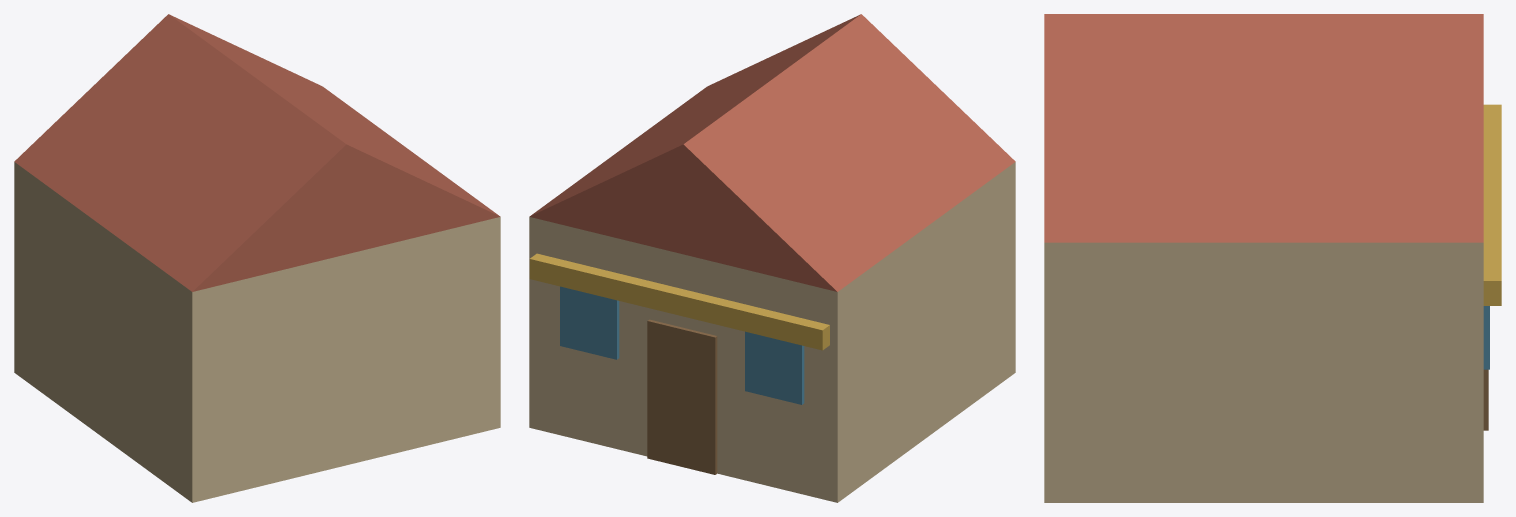
File: shop_cafe.glb
3 renders of one model, left to right at view 1: azimuth 30°, elevation 25°; view 2: azimuth 150°, elevation 25°; view 3: azimuth 270°, elevation 25°, orthographic. The views are drawn at different scales.
Bounding box in the file's own units: 3.52 × 3.5 × 3.66.
